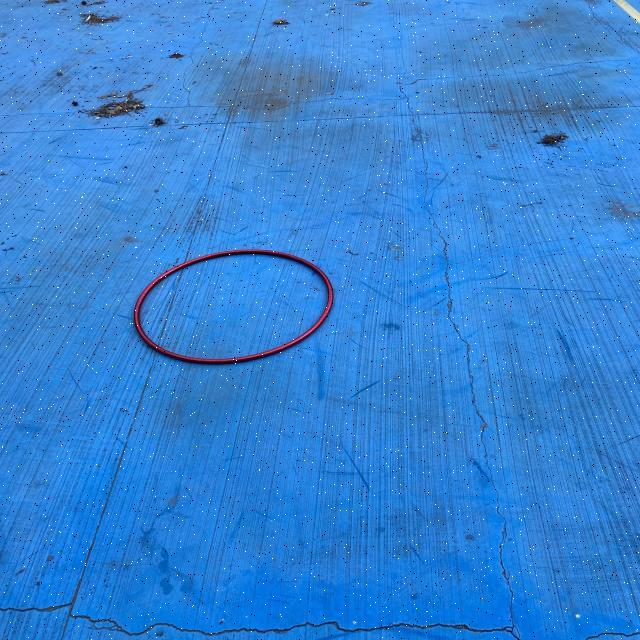Circle: (132, 247, 336, 366)
